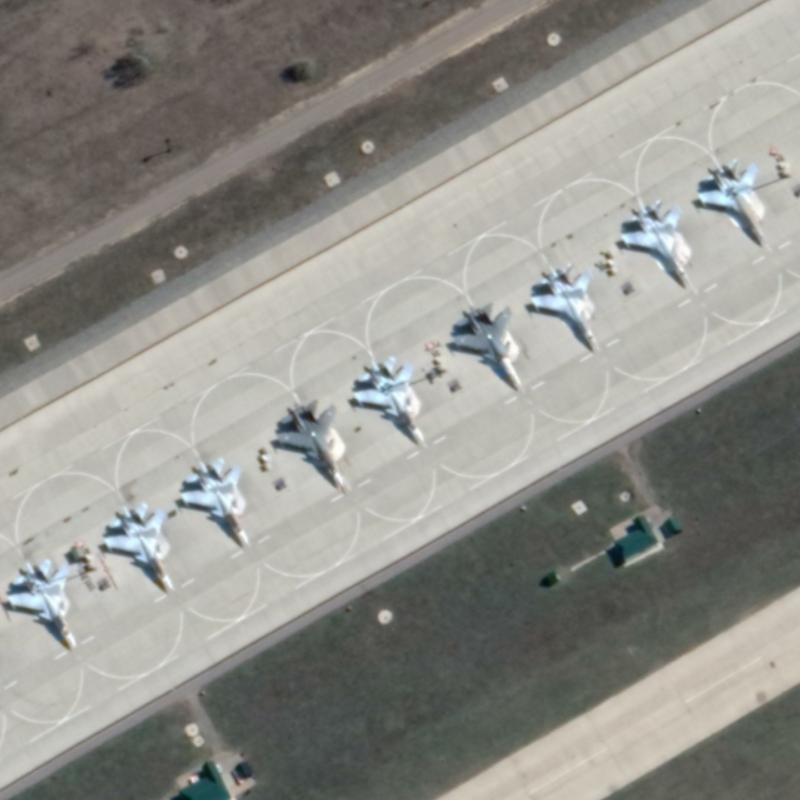A1: (694, 155, 769, 247), (616, 195, 692, 284), (526, 259, 600, 350)
A19: (3, 555, 79, 650), (271, 396, 347, 489), (99, 499, 176, 590), (350, 353, 426, 442), (448, 299, 523, 389), (177, 454, 249, 544)
